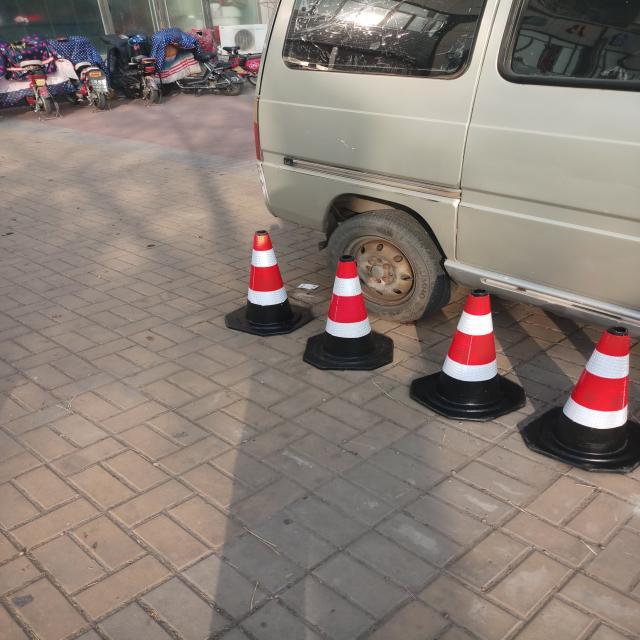car: (249, 3, 640, 330)
motorbike: (152, 25, 242, 97), (101, 28, 163, 104), (50, 38, 109, 109)
reflective_cone: (522, 327, 640, 474), (408, 287, 528, 423), (300, 255, 395, 372), (226, 230, 311, 335)
